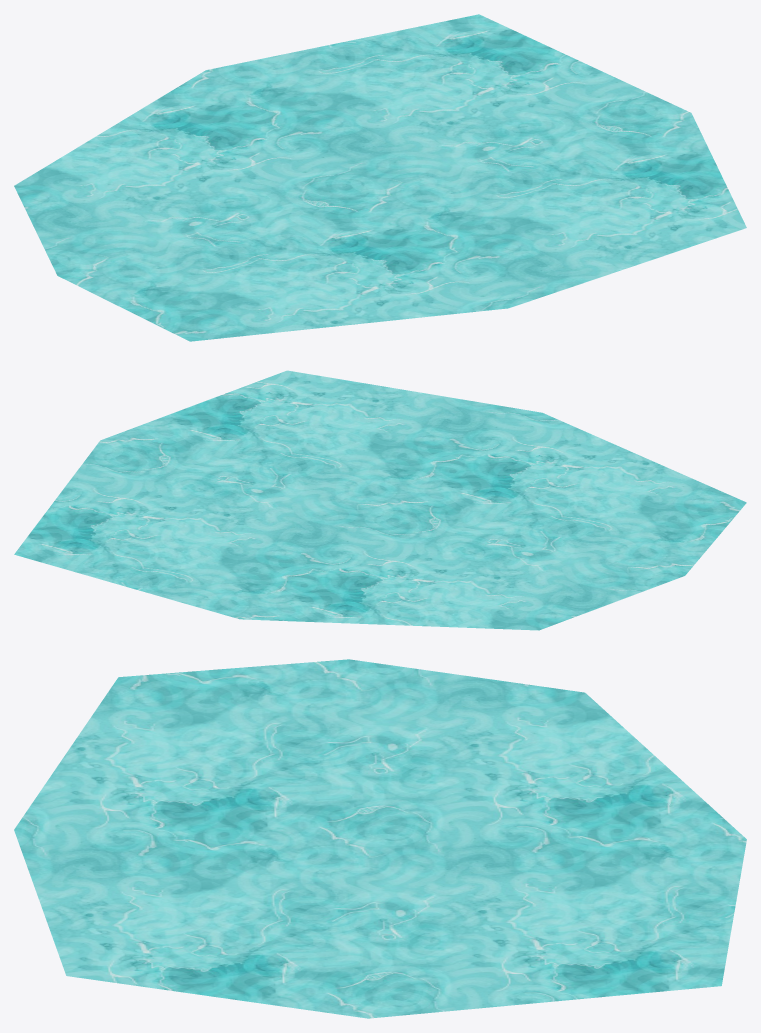
File: entity103750.gltf
The picture shows the model from 3 angles, top to bottom: view 1: azimuth 30°, elevation 25°; view 2: azimuth 150°, elevation 25°; view 3: azimuth 270°, elevation 25°; orthographic projection. The views are drawn at different scales.
Parts seen in each view (by area): view 1: node_Water_Pond_01; view 2: node_Water_Pond_01; view 3: node_Water_Pond_01.
Boxes of the visible parts, x1,y1,x2,y2 form: node_Water_Pond_01: (14,14,746,341); node_Water_Pond_01: (14,370,746,630); node_Water_Pond_01: (14,659,746,1018).
Bounding box in the file's own units: 14.05 × 0 × 12.11.
